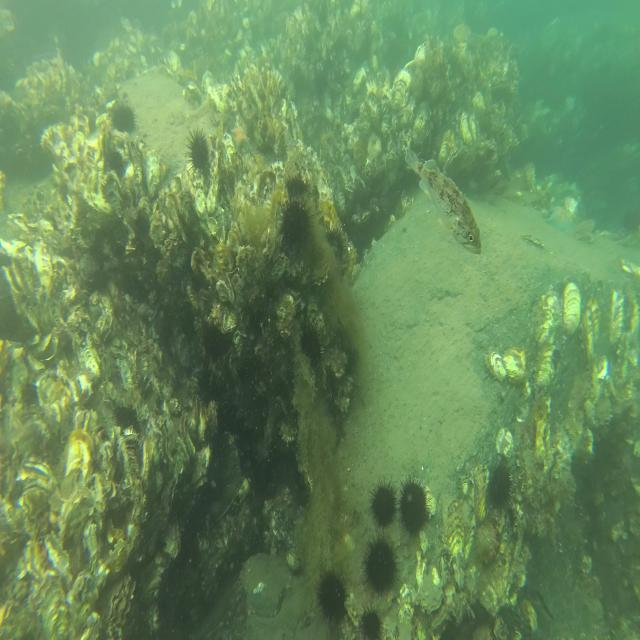echinus: (359, 534, 403, 605), (314, 564, 353, 631), (399, 475, 431, 541), (278, 193, 311, 250), (370, 474, 400, 532), (488, 455, 515, 518), (184, 123, 212, 175), (298, 320, 324, 372), (322, 219, 348, 266), (110, 97, 137, 137), (357, 607, 387, 637), (283, 169, 309, 197)
starfish: (546, 199, 578, 236), (229, 123, 254, 152)
